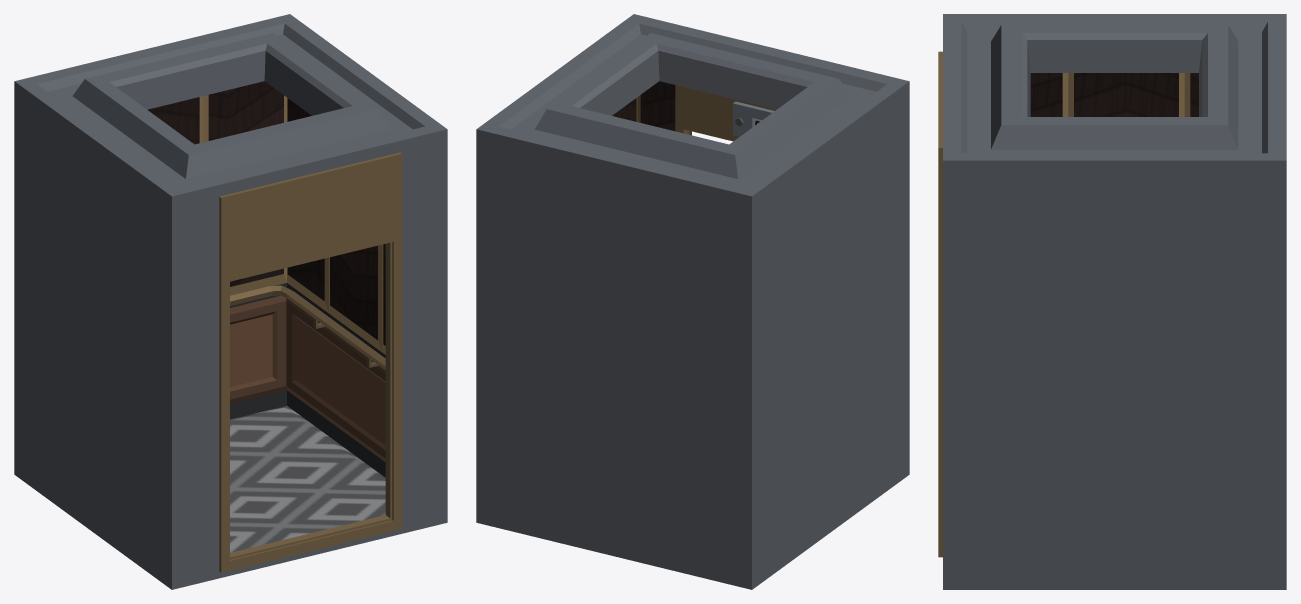
Rendered from SM_Bld_Elevator_Insert_01.obj.
3 renders of one model, left to right at view 1: azimuth 30°, elevation 25°; view 2: azimuth 150°, elevation 25°; view 3: azimuth 270°, elevation 25°, orthographic. The views are drawn at different scales.
Parts seen in each view (by area): view 1: SM_Bld_Elevator_Insert_01_0, SM_Bld_Elevator_Insert_01_1; view 2: SM_Bld_Elevator_Insert_01_0, SM_Bld_Elevator_Insert_01_1; view 3: SM_Bld_Elevator_Insert_01_0, SM_Bld_Elevator_Insert_01_1.
Boxes of the visible parts, x1=… form: SM_Bld_Elevator_Insert_01_0: x1=14, y1=14, x2=447, y2=589; SM_Bld_Elevator_Insert_01_1: x1=147, y1=81, x2=385, y2=345; SM_Bld_Elevator_Insert_01_0: x1=476, y1=14, x2=909, y2=589; SM_Bld_Elevator_Insert_01_1: x1=612, y1=81, x2=675, y2=131; SM_Bld_Elevator_Insert_01_0: x1=938, y1=14, x2=1286, y2=589; SM_Bld_Elevator_Insert_01_1: x1=1030, y1=73, x2=1198, y2=116.
Bounding box in the file's own units: 2.31 × 3.24 × 2.31.
Materials: 2 (2 with a texture image).
